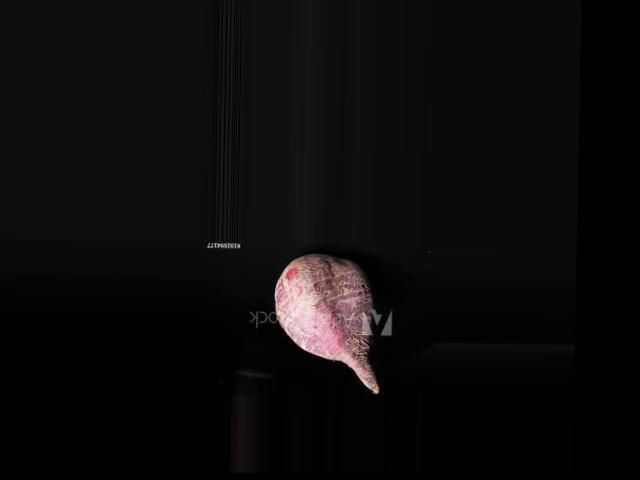beet: (271, 253, 380, 392)
